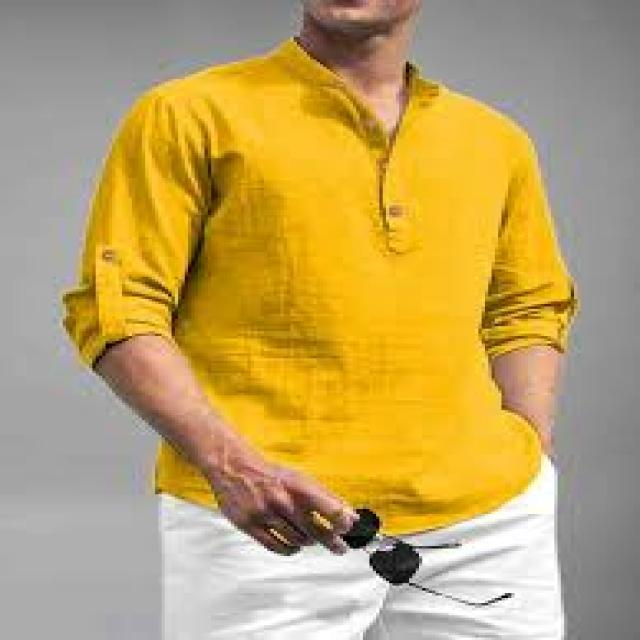lower-wear: (159, 455, 564, 639)
top-wear: (63, 38, 577, 533)
